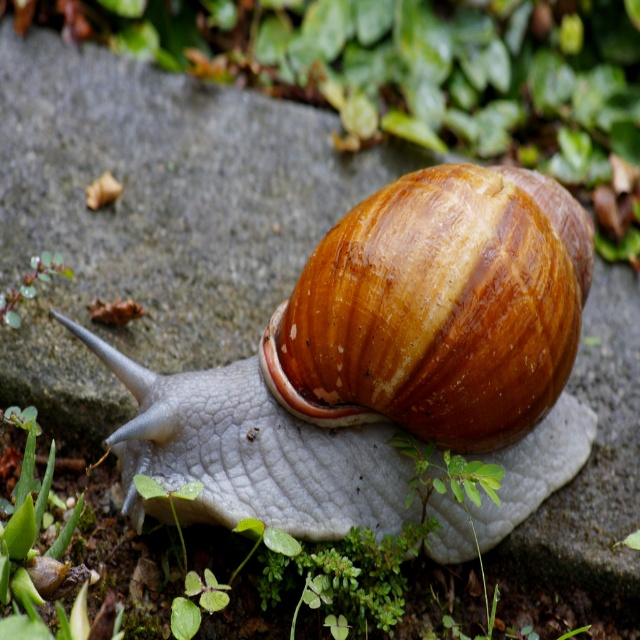Snail: (50, 164, 595, 565)
